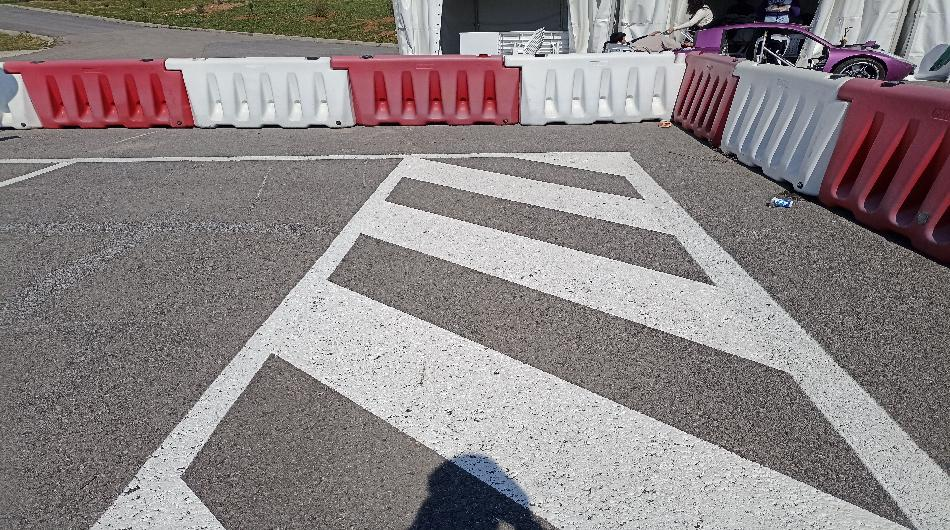park_yapilmaz_yerde: (89, 124, 949, 529)
